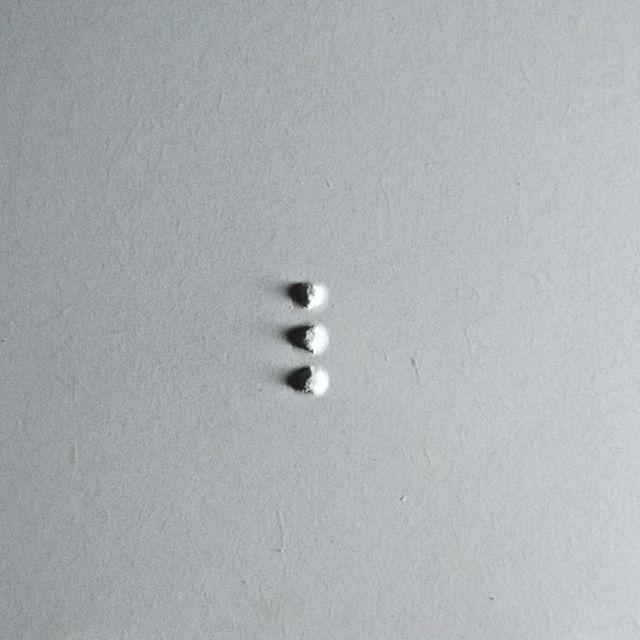l: (290, 279, 373, 399)
